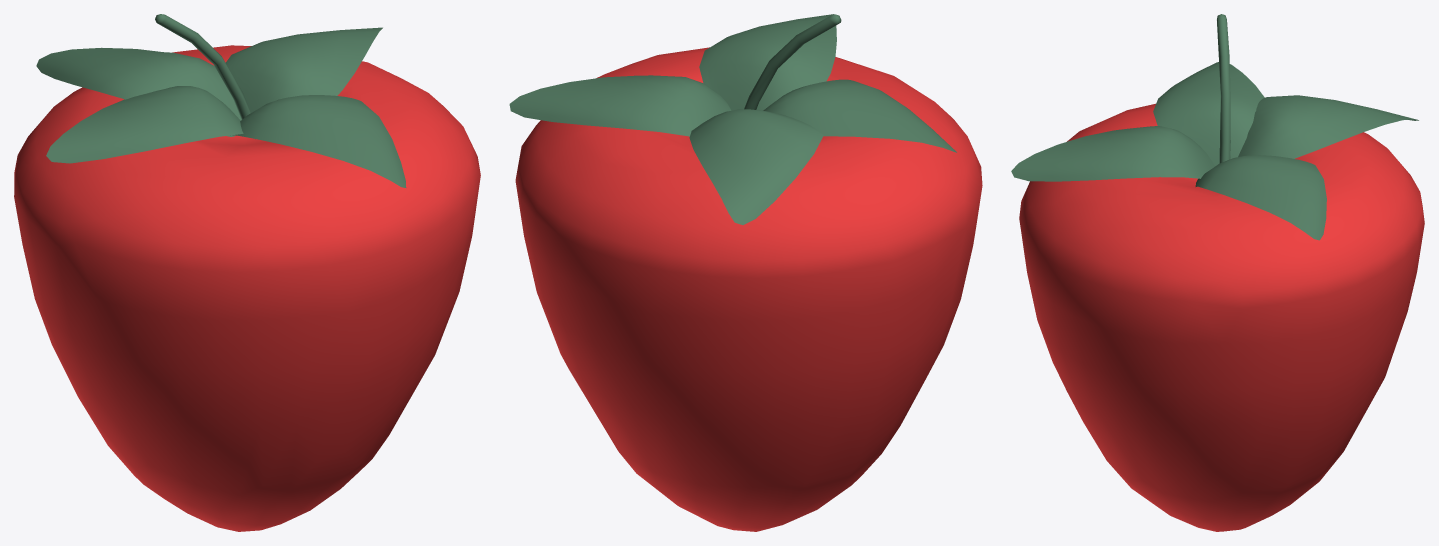
The model's file is strawberry.gltf.
The picture shows the model from 3 angles, left to right: view 1: azimuth 30°, elevation 25°; view 2: azimuth 150°, elevation 25°; view 3: azimuth 270°, elevation 25°; orthographic projection. The views are drawn at different scales.
Visible parts, largest first — view 1: Sphere, Circle; view 2: Sphere, Circle; view 3: Sphere, Circle.
Part boxes in pixels (box(x1,y1,x2,y2)): Sphere: box(14, 45, 480, 531); Circle: box(36, 14, 406, 187); Sphere: box(515, 47, 982, 531); Circle: box(509, 14, 956, 224); Sphere: box(1019, 103, 1424, 531); Circle: box(1011, 14, 1418, 240).
Bounding box in the file's own units: 0.773 × 0.9679 × 0.7632.
Materials: 2 (2 with a texture image).
